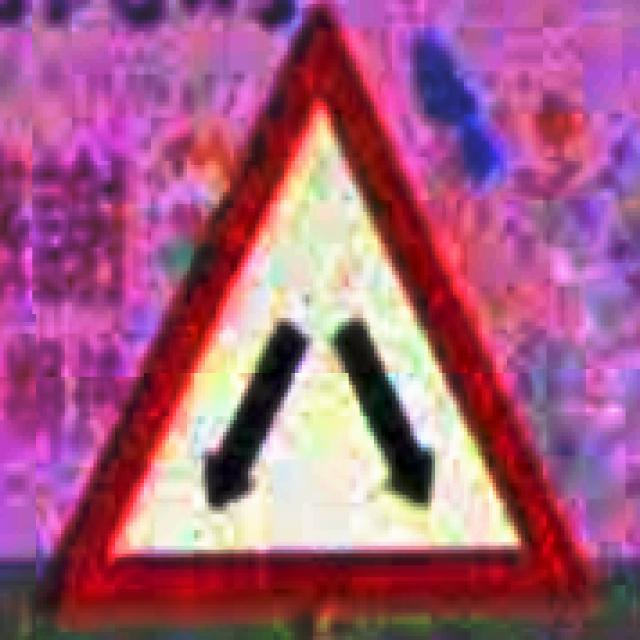diverge: (29, 4, 593, 628)
